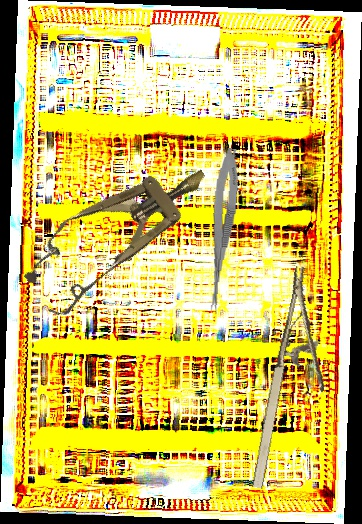Micro Scissor: (203, 147, 243, 315)
Needle Holder: (245, 265, 350, 498)
Speculum: (11, 140, 227, 324)
